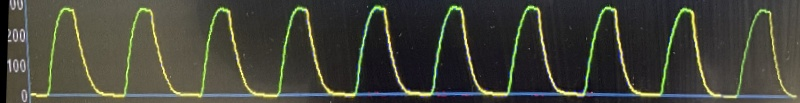normal_volume: (24, 0, 800, 103)
